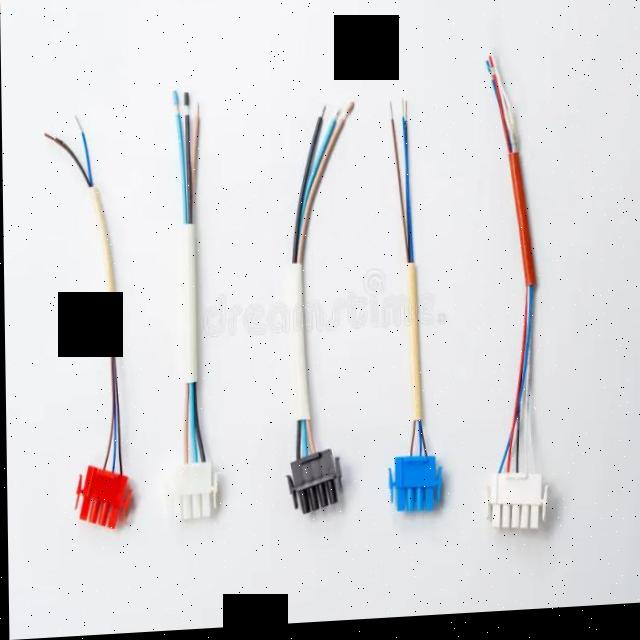connector: (73, 466, 131, 530), (285, 453, 340, 517), (485, 479, 546, 533), (387, 460, 441, 518), (164, 465, 217, 522)
